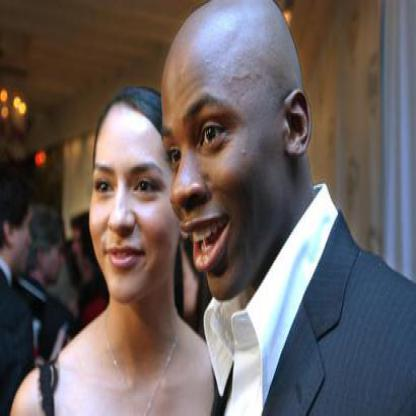face: (159, 5, 290, 306), (87, 90, 184, 308)
